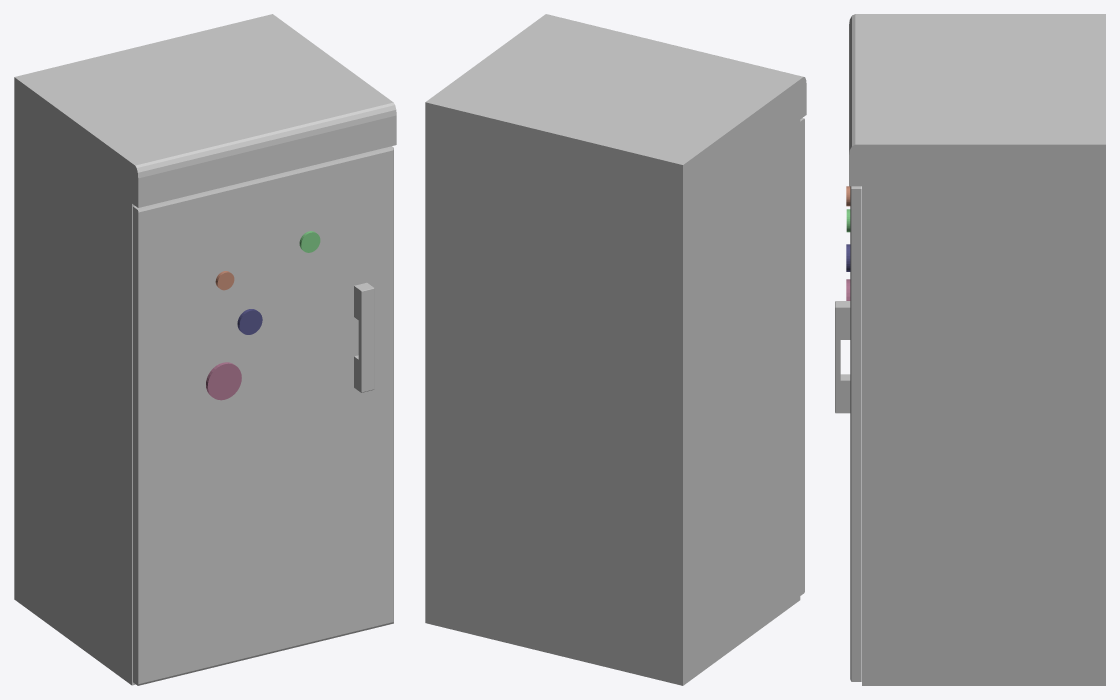
The model's file is jääkaappi_GJ22.fbx.
3 renders of one model, left to right at view 1: azimuth 30°, elevation 25°; view 2: azimuth 150°, elevation 25°; view 3: azimuth 270°, elevation 25°, orthographic. The views are drawn at different scales.
Parts seen in each view (by area): view 1: Ovi, Kaappi; view 2: Kaappi, Ovi; view 3: Kaappi, Ovi.
Part boxes in pixels (left/top/right/bottom): Ovi: left=133, top=146, right=393, bottom=685; Kaappi: left=14, top=14, right=396, bottom=685; Kaappi: left=425, top=14, right=806, bottom=685; Ovi: left=800, top=118, right=804, bottom=595; Kaappi: left=849, top=14, right=1105, bottom=685; Ovi: left=835, top=186, right=861, bottom=681.
Bounding box in the file's own units: 100 × 193 × 87.57.
